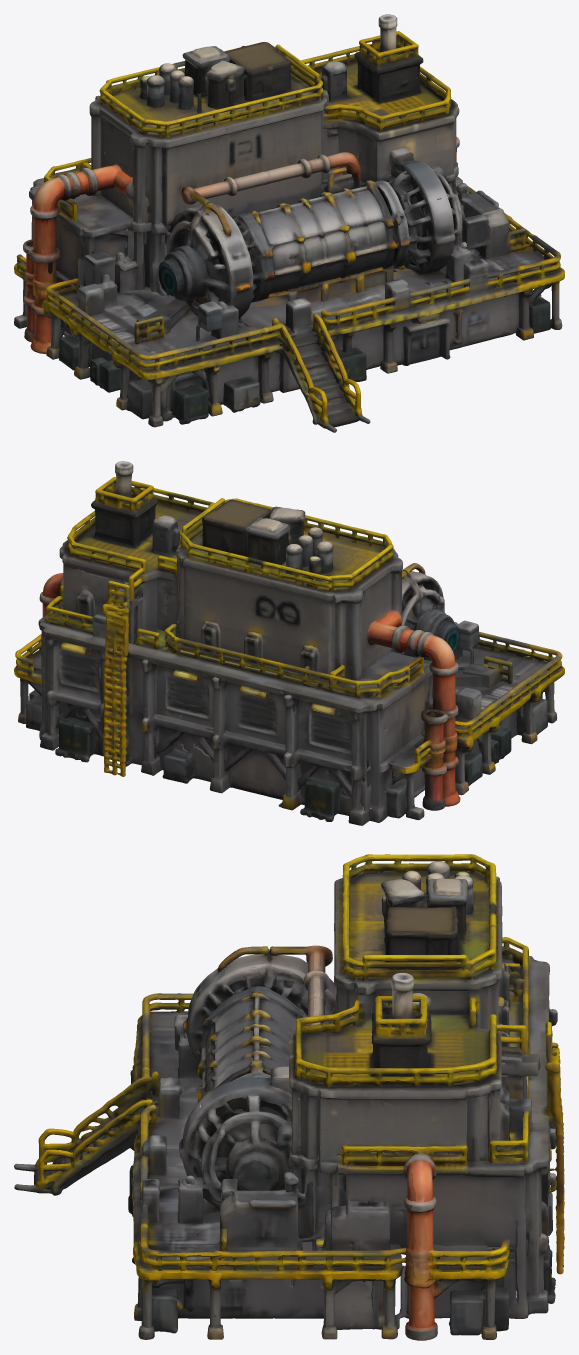
File: b01_power.glb
3 views of the same model, one above another, from view 1: azimuth 30°, elevation 25°; view 2: azimuth 150°, elevation 25°; view 3: azimuth 270°, elevation 25° (orthographic). The views are drawn at different scales.
Parts seen in each view (by area): view 1: world; view 2: world; view 3: world.
Boxes of the visible parts, x1,y1,x2,y2 form: world: (14,14,564,432); world: (14,461,564,825); world: (14,854,564,1340).
Size of the model in its own units: 28 by 16.15 by 24.83.
1 material, 1 textured.
